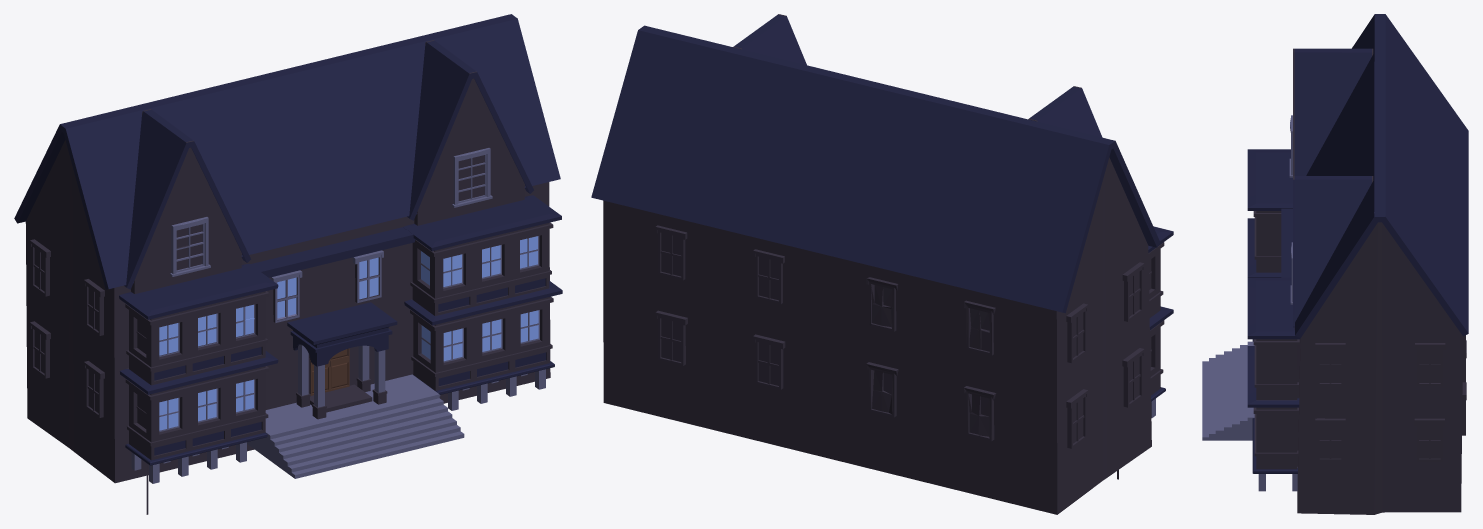
File: 人形館.fbx
The picture shows the model from 3 angles, left to right: view 1: azimuth 30°, elevation 25°; view 2: azimuth 150°, elevation 25°; view 3: azimuth 270°, elevation 25°; orthographic projection. The views are drawn at different scales.
Visible parts, largest first — view 1: youkan220; view 2: youkan220; view 3: youkan220.
Part boxes in pixels (x1,y1,x2,y2): youkan220: (14,14,562,514); youkan220: (591,14,1173,514); youkan220: (1202,14,1468,514).
Size of the model in its own units: 9446 by 7288 by 5241.
